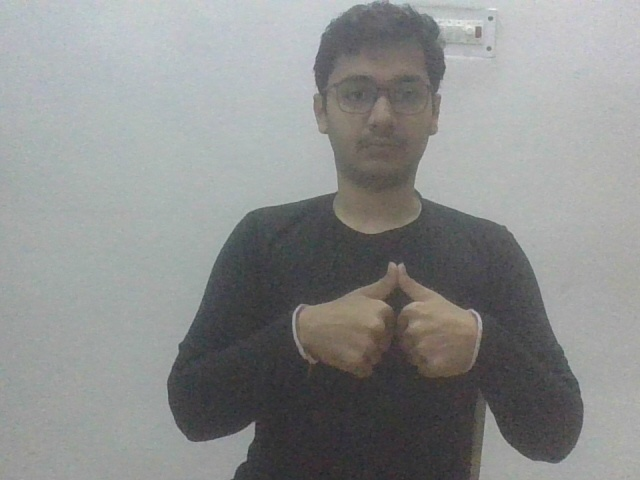A: (298, 259, 483, 386)
